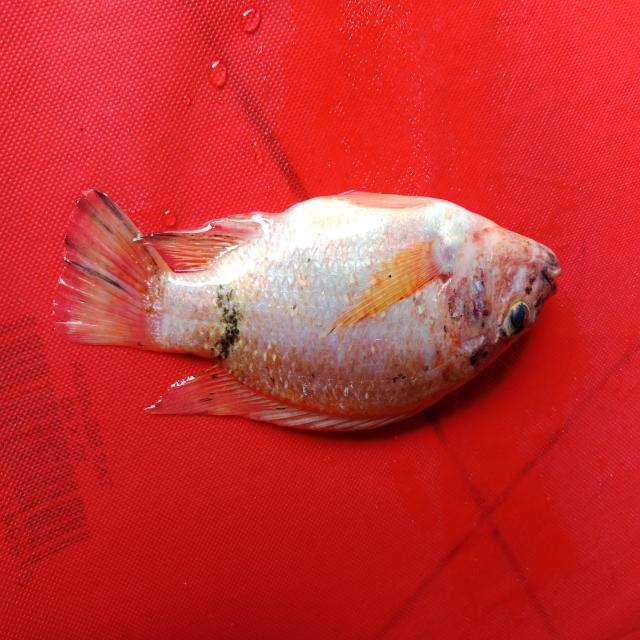ikan: (46, 163, 569, 446)
